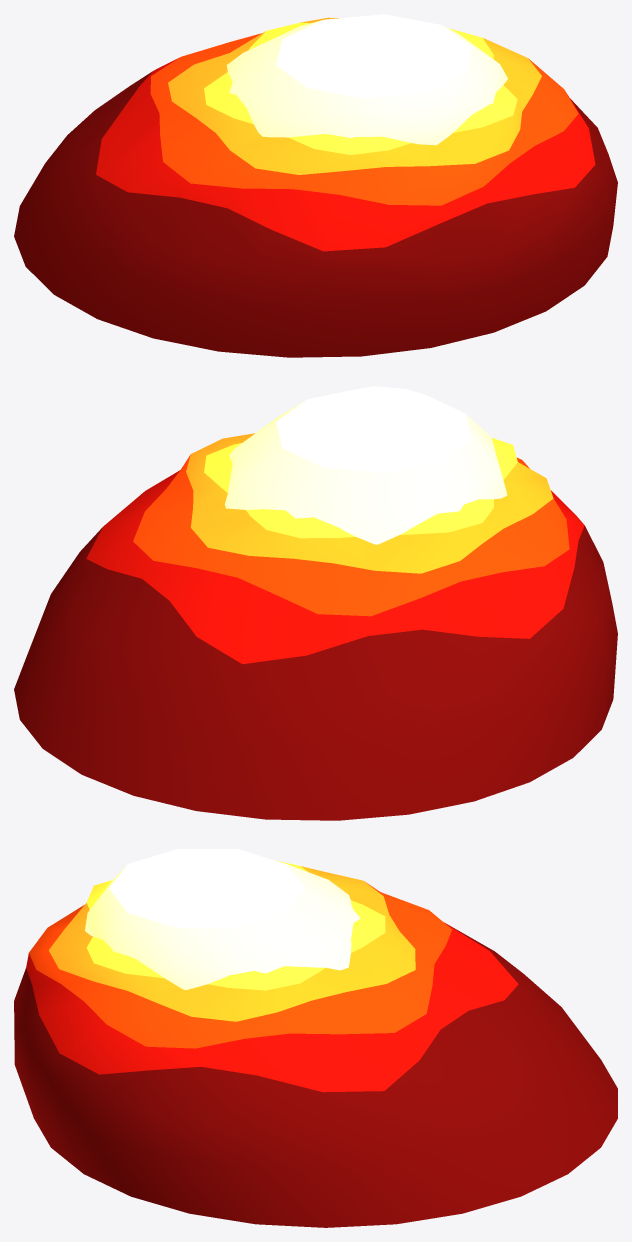
File: shot_pellet_113.glb
The picture shows the model from 3 angles, top to bottom: view 1: azimuth 30°, elevation 25°; view 2: azimuth 150°, elevation 25°; view 3: azimuth 270°, elevation 25°; orthographic projection.
Visible parts, largest first — view 1: shot_pellet_113_fire, shot_pellet_113_heart; view 2: shot_pellet_113_fire, shot_pellet_113_heart; view 3: shot_pellet_113_fire, shot_pellet_113_heart.
Part boxes in pixels (bbox=[...]): shot_pellet_113_fire: bbox=[14, 17, 617, 357]; shot_pellet_113_heart: bbox=[226, 14, 507, 145]; shot_pellet_113_fire: bbox=[14, 433, 617, 820]; shot_pellet_113_heart: bbox=[224, 386, 507, 544]; shot_pellet_113_fire: bbox=[14, 860, 617, 1227]; shot_pellet_113_heart: bbox=[85, 849, 360, 990].
Size of the model in its own units: 7 by 3.15 by 7.19.
